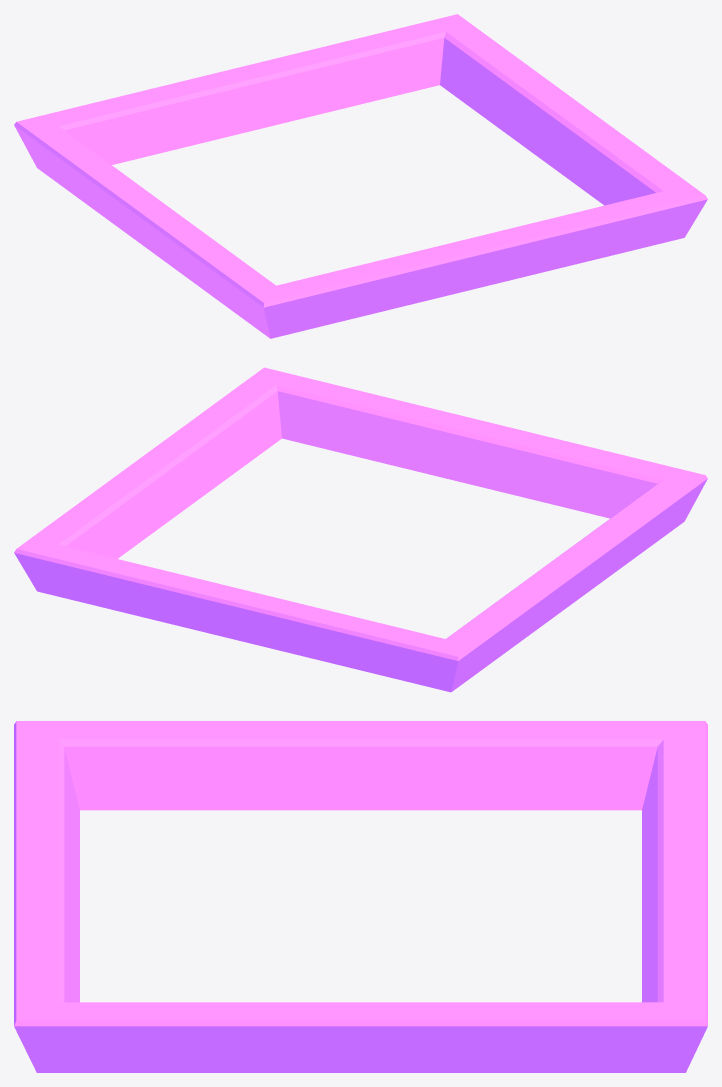
Rendered from mach-lip.glb.
3 renders of one model, top to bottom at view 1: azimuth 30°, elevation 25°; view 2: azimuth 150°, elevation 25°; view 3: azimuth 270°, elevation 25°, orthographic. The views are drawn at different scales.
Parts seen in each view (by area): view 1: chutelip; view 2: chutelip; view 3: chutelip.
Boxes of the visible parts, bbox=[...] form: chutelip: bbox=[14, 14, 707, 338]; chutelip: bbox=[14, 367, 707, 692]; chutelip: bbox=[14, 721, 707, 1072].
Size of the model in its own units: 0.5118 by 0.0489 by 0.4979.
